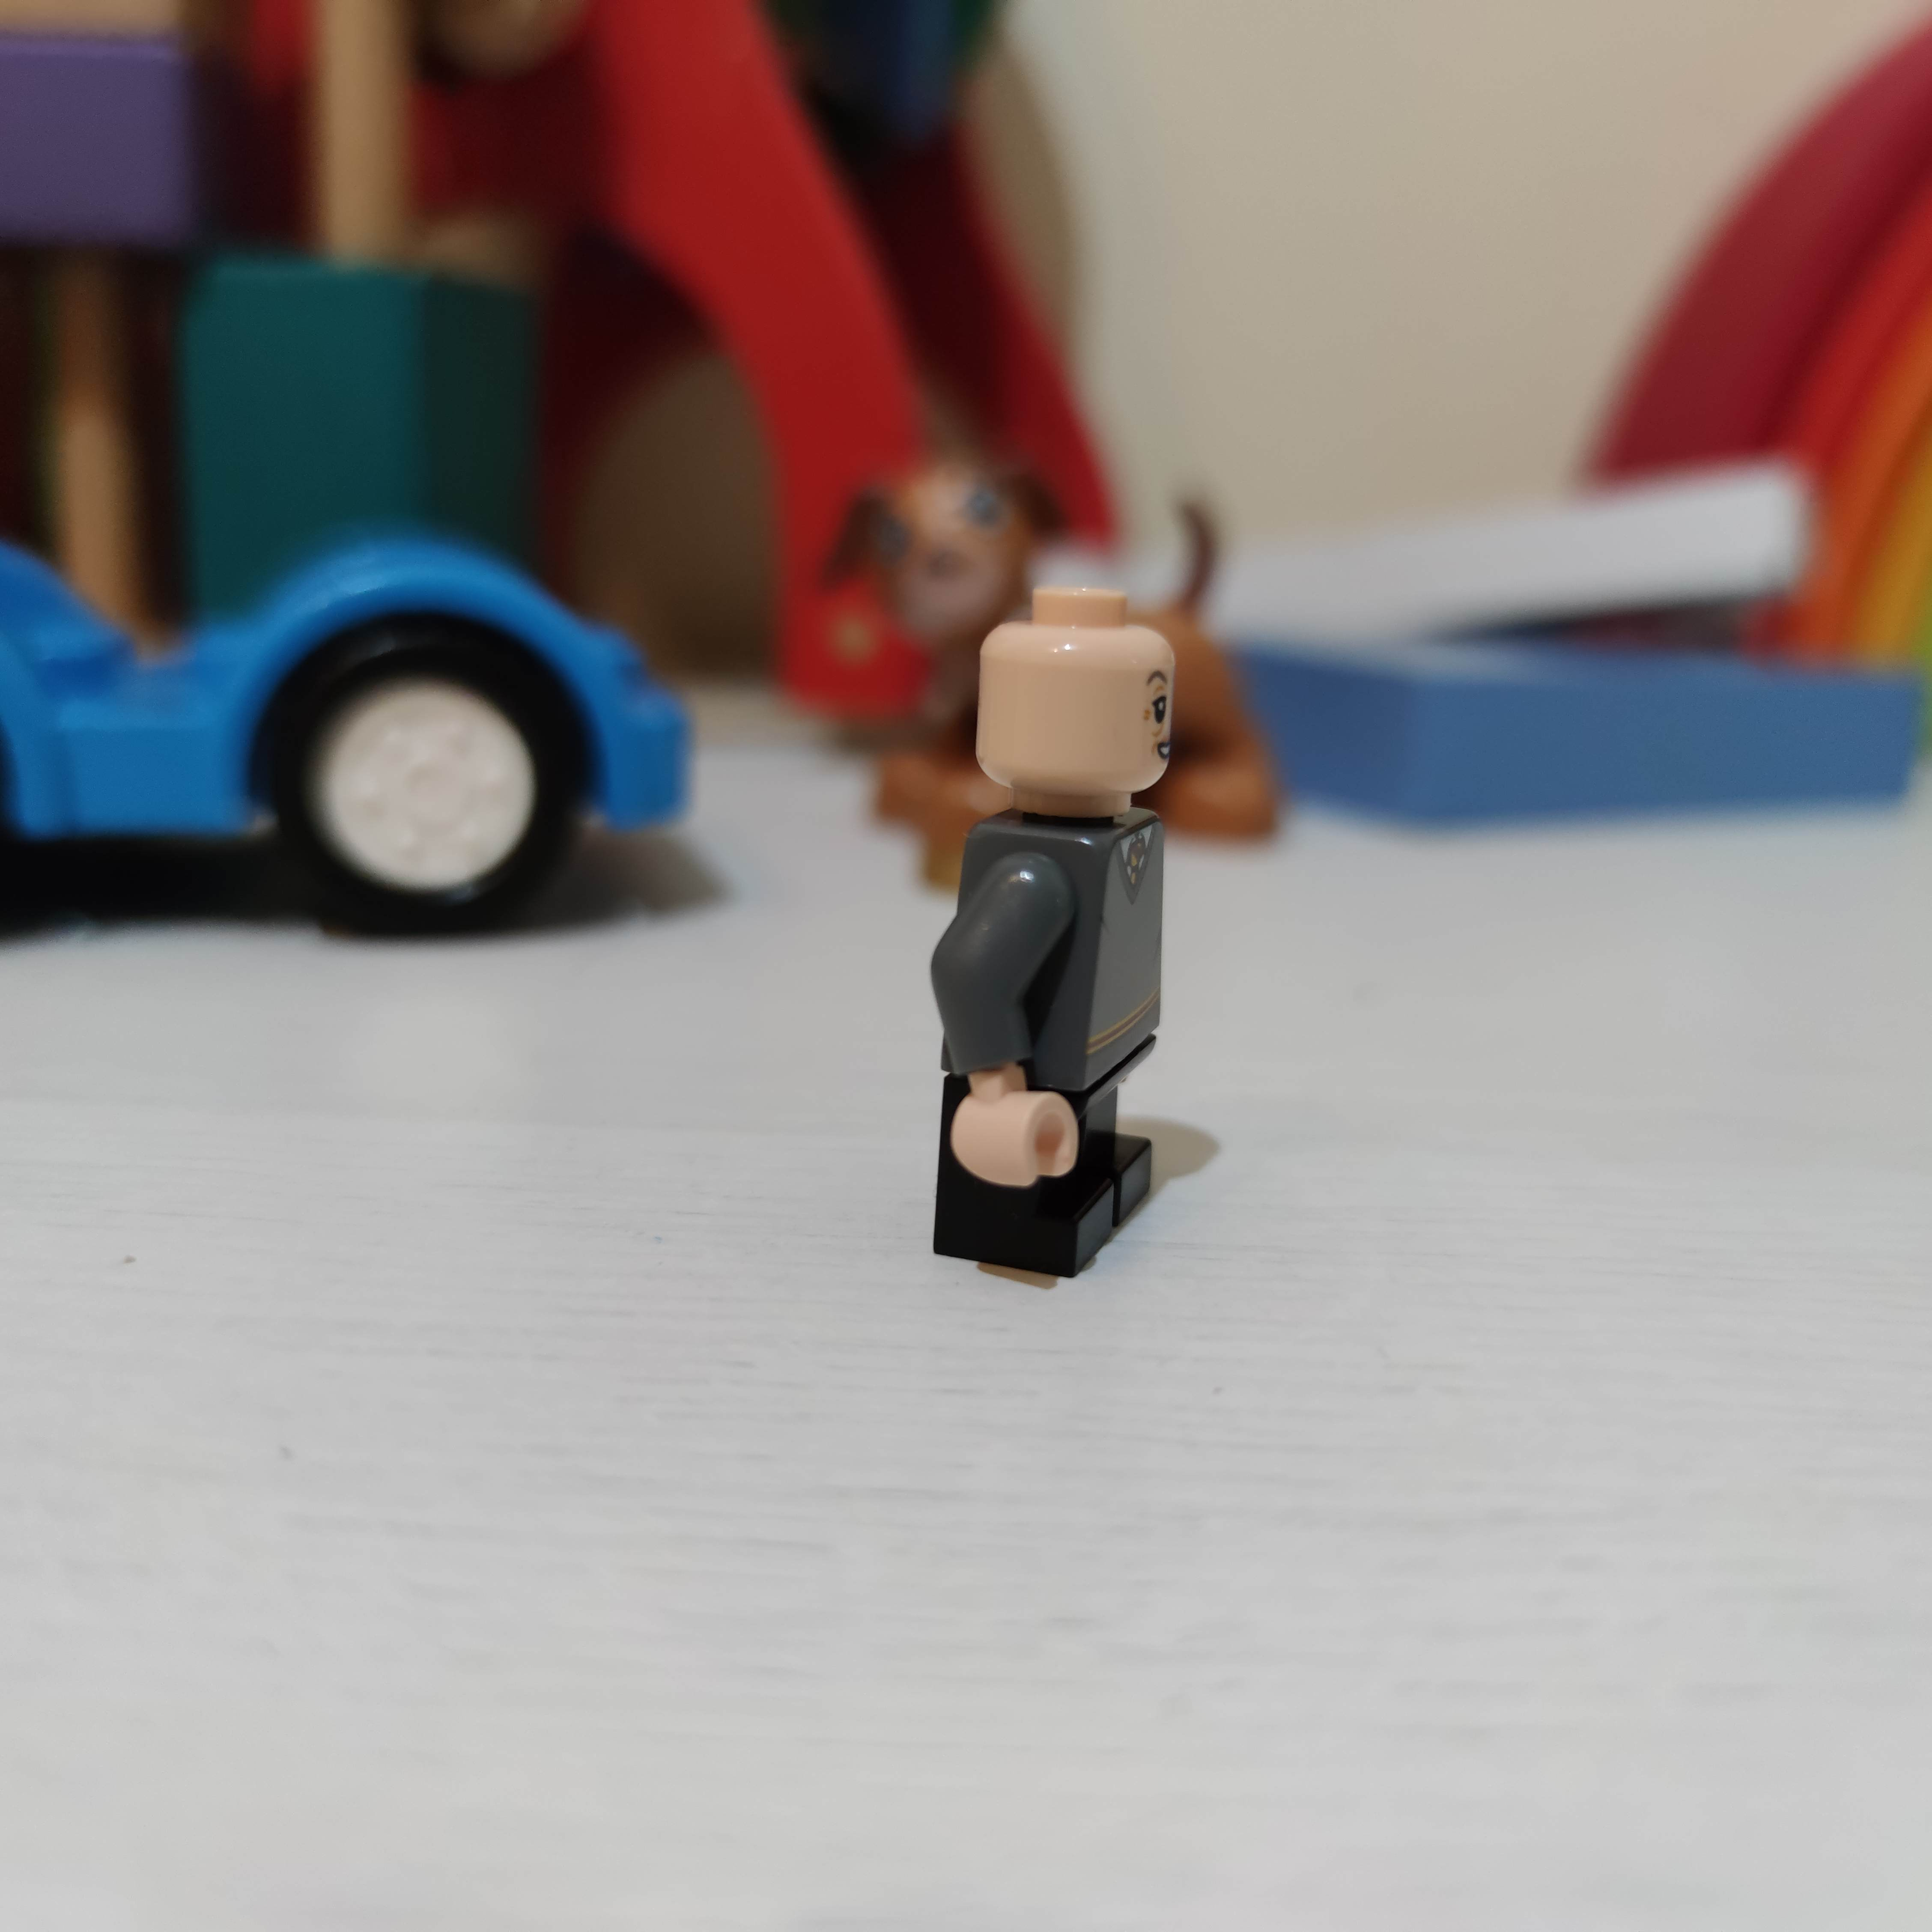lego: (913, 584, 1184, 1283)
